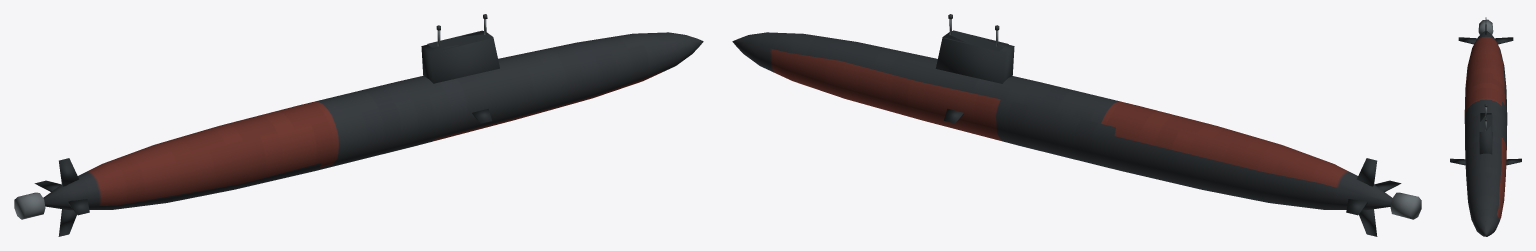
File: FR_SSN_Suffren_LOD3.fbx
3 renders of one model, left to right at view 1: azimuth 30°, elevation 25°; view 2: azimuth 150°, elevation 25°; view 3: azimuth 270°, elevation 25°, orthographic. The views are drawn at different scales.
Parts seen in each view (by area): view 1: FR_SSN_Suffren_LOD3; view 2: FR_SSN_Suffren_LOD3; view 3: FR_SSN_Suffren_LOD3.
Part boxes in pixels (left/top/right/bottom): FR_SSN_Suffren_LOD3: left=14, top=14, right=703, bottom=236; FR_SSN_Suffren_LOD3: left=732, top=14, right=1421, bottom=236; FR_SSN_Suffren_LOD3: left=1450, top=17, right=1521, bottom=236.
Size of the model in its own units: 103 by 14.87 by 16.93.
Materials: 6 (1 with a texture image).
